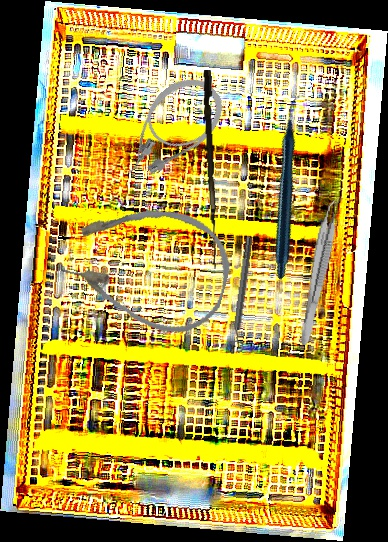Cannula: (52, 185, 241, 346), (102, 65, 235, 191)
Fixation Ring: (224, 235, 260, 354)
Handpiece: (199, 93, 381, 281)
Hook Surgical: (200, 69, 225, 270)
Tissue Forceps: (297, 194, 345, 348)
